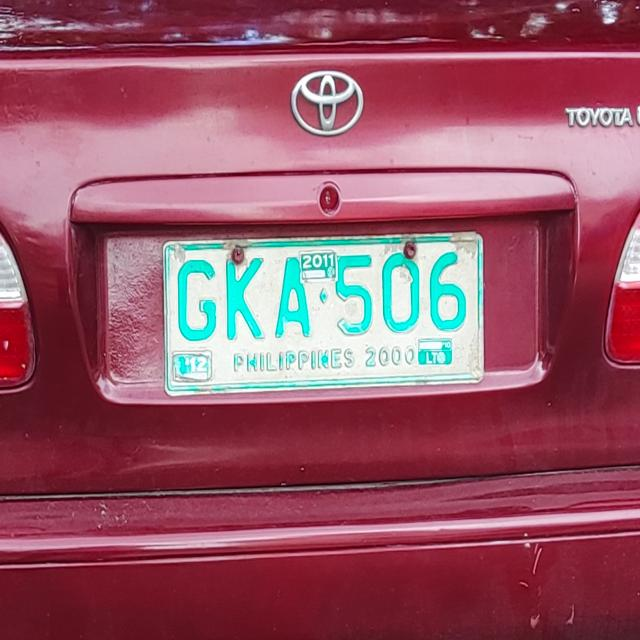plate: (160, 226, 488, 399)
